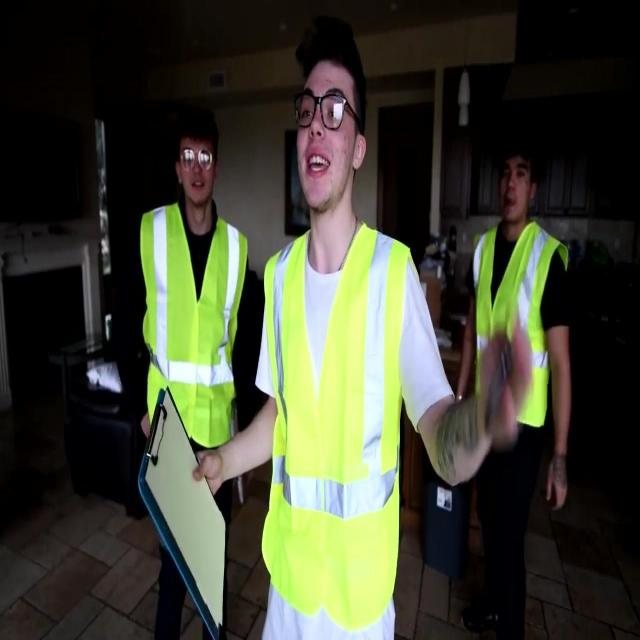Reflective-Jacket: (262, 219, 419, 633), (132, 197, 254, 465), (456, 216, 578, 456)
